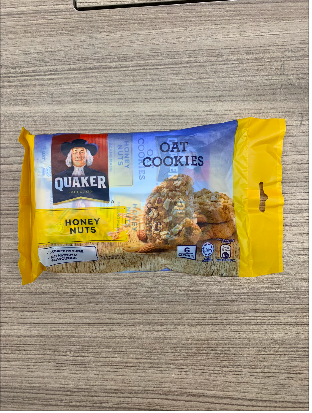Cookies_100-199g: (42, 137, 244, 269)
